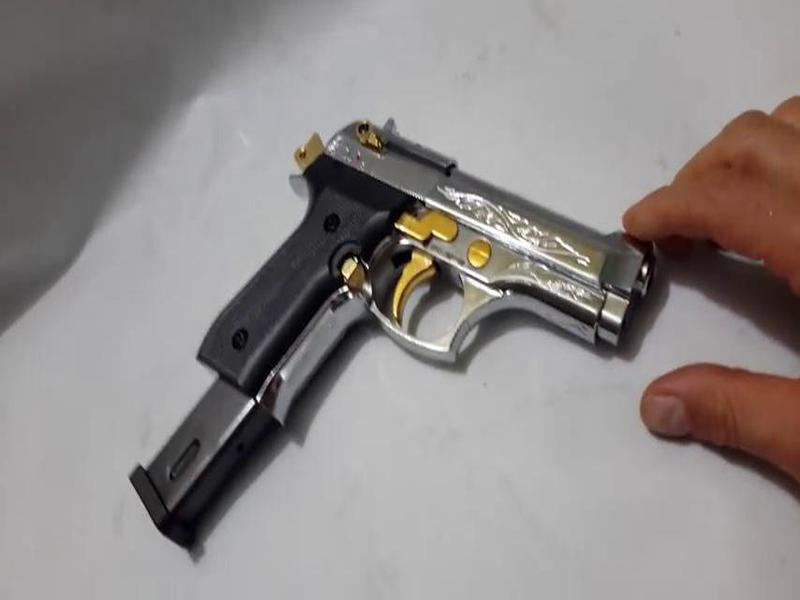Pistola: (232, 77, 669, 418)
